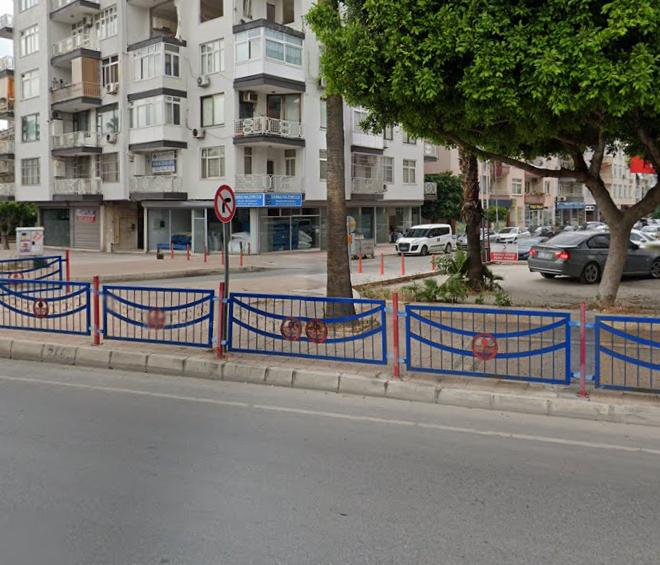rightturnsareforbidden: (214, 185, 236, 223)
